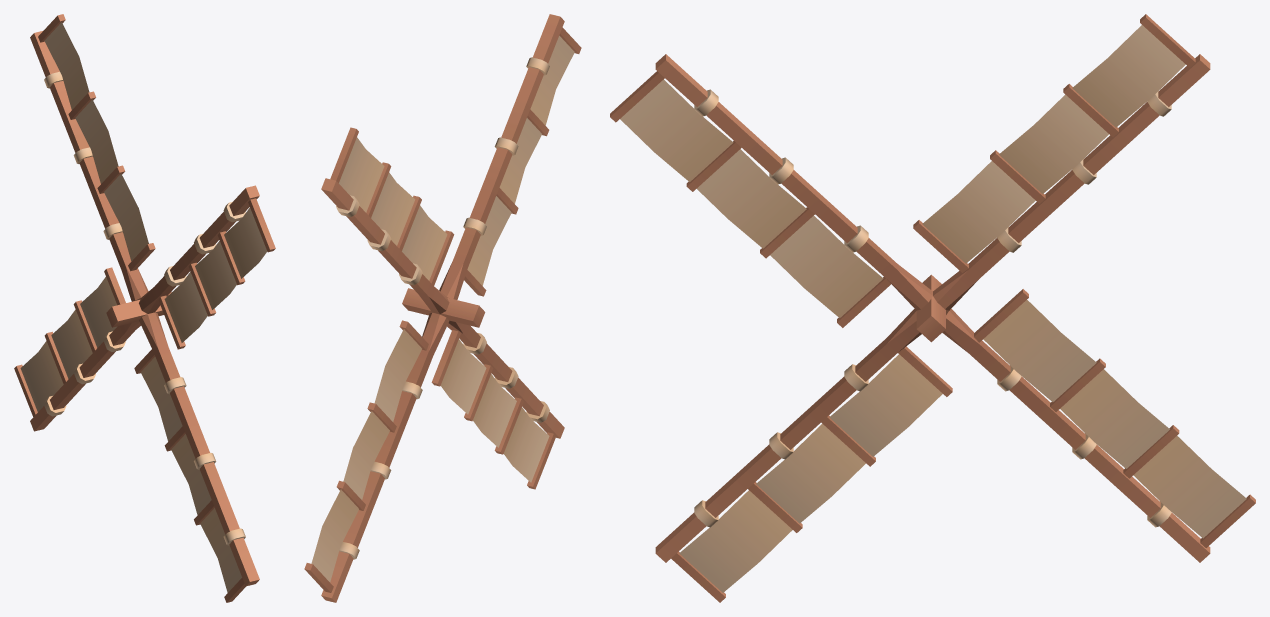
The model's file is windmill.glb.
The picture shows the model from 3 angles, left to right: view 1: azimuth 30°, elevation 25°; view 2: azimuth 150°, elevation 25°; view 3: azimuth 270°, elevation 25°; orthographic projection. The views are drawn at different scales.
Visible parts, largest first — view 1: windmill; view 2: windmill; view 3: windmill.
Boxes of the visible parts, left/top/right/bottom form: windmill: left=14, top=14, right=275, bottom=602; windmill: left=304, top=14, right=581, bottom=602; windmill: left=610, top=14, right=1255, bottom=602.
Size of the model in its own units: 0.4711 by 3.11 by 3.11.
Materials: 1 (1 with a texture image).
